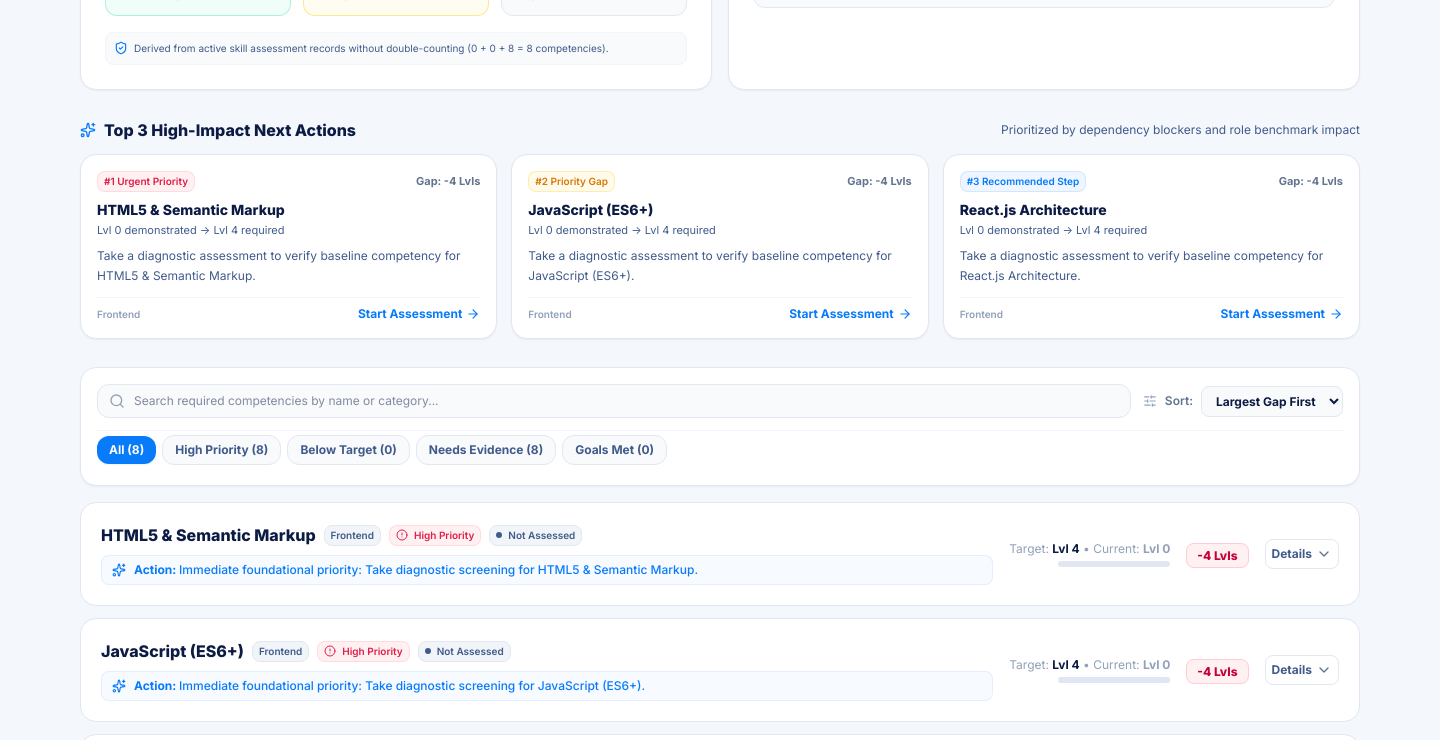
Test: SARATHI — Skill Gap Analysis Redesign Suite › 7. Search and filter controls correctly narrow the list of required competencies
The width and height of the screenshot is (1440, 740).
(page scrolled)
# Type "TypeScript" in search
Type "TypeScript" into the field with placeholder "Search required competencies by name or category..." at (614, 401), box 97,384 -> 1131,418
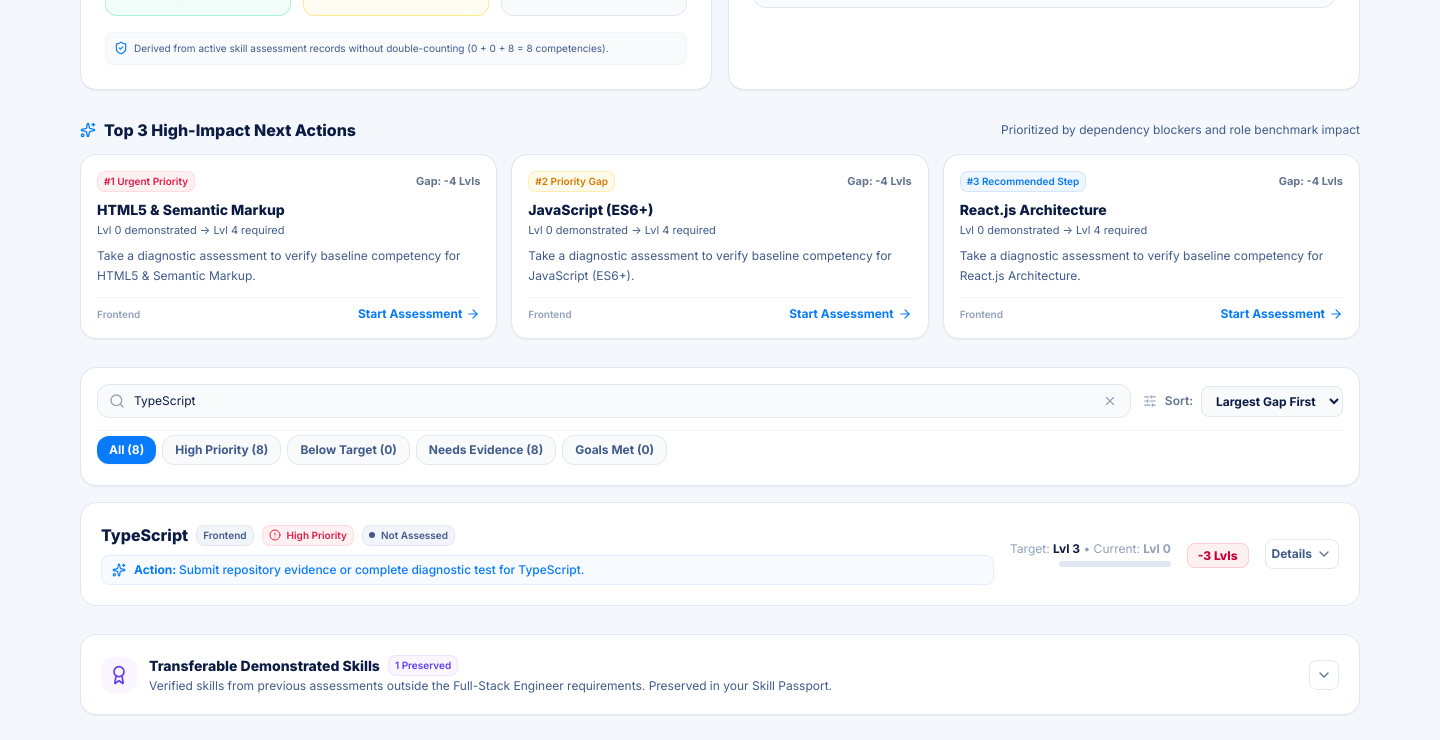
# Type a nonexistent skill
Replace the text in the field with placeholder "Search required competencies by name or category..." with "NonExistentSkill123" at (614, 401), box 97,384 -> 1131,418
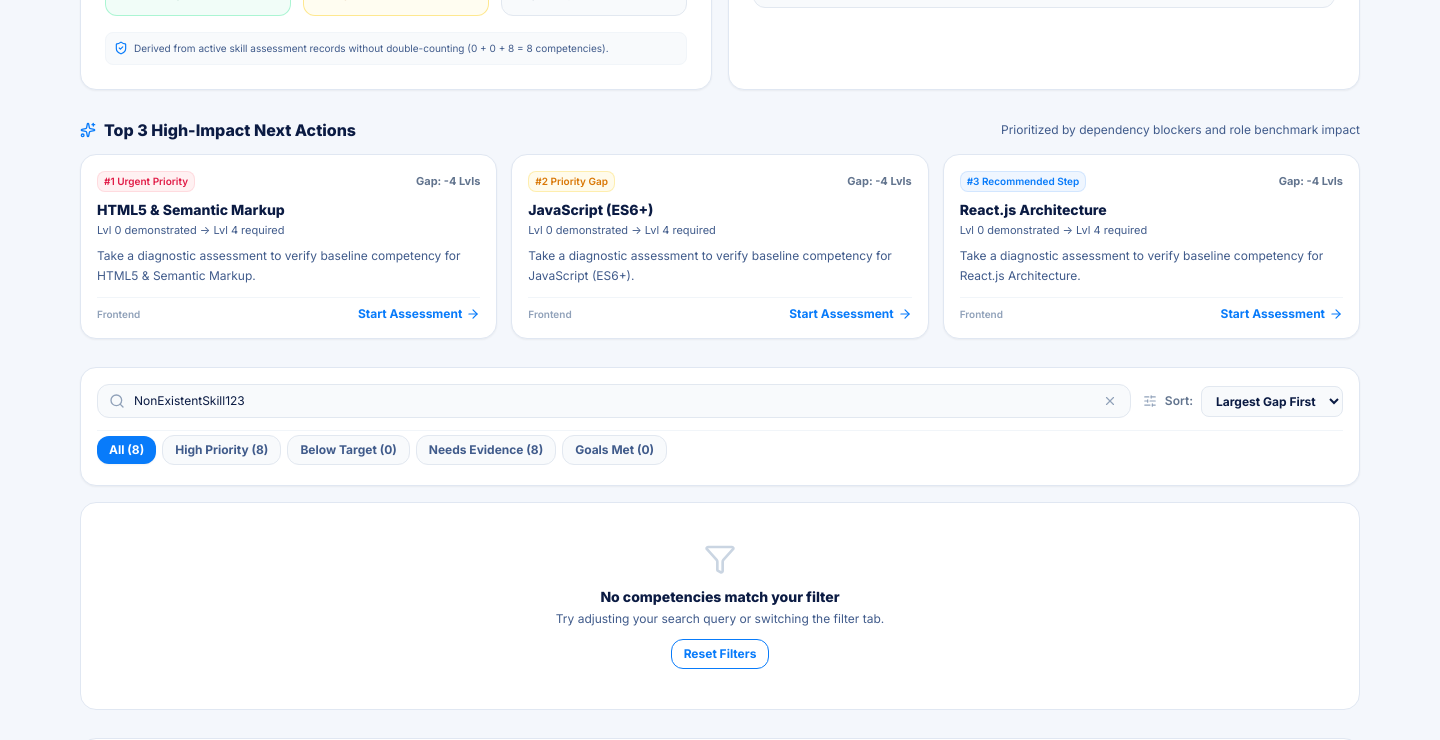
Expected: the heading "No competencies match your filter" is shown, 600,588 -> 840,605
